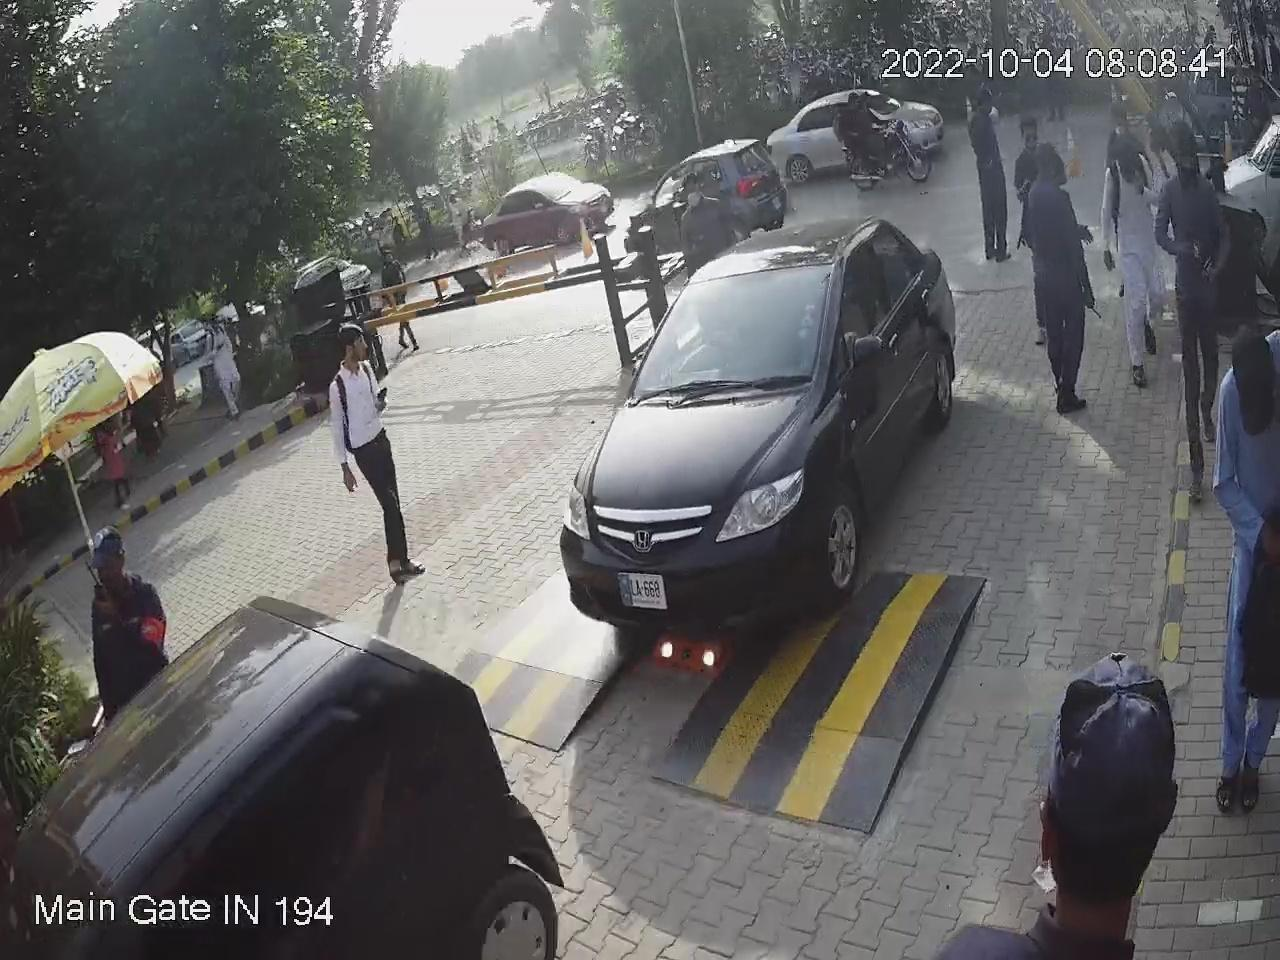windshield: (616, 252, 843, 407)
